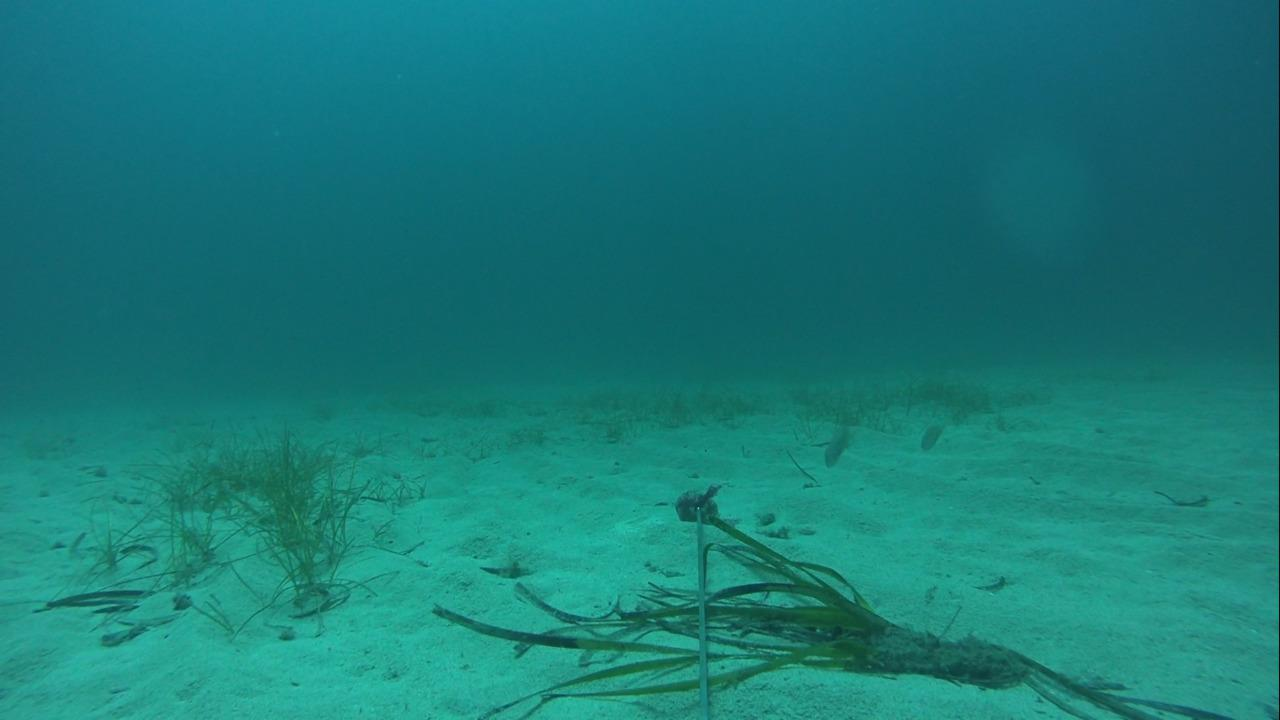raor: (816, 415, 860, 471), (913, 419, 945, 456)
